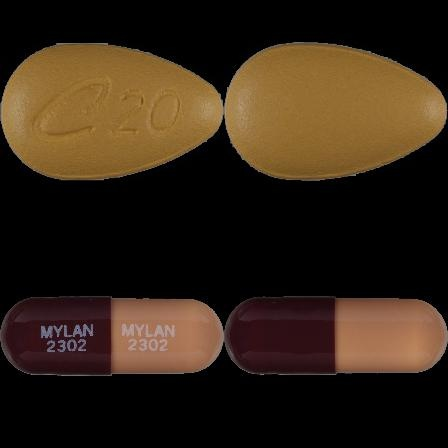43353-857: (0, 0, 224, 224)
